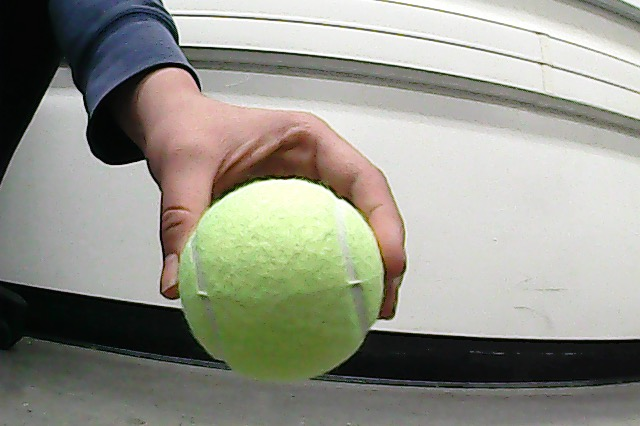ball: (171, 179, 390, 386)
